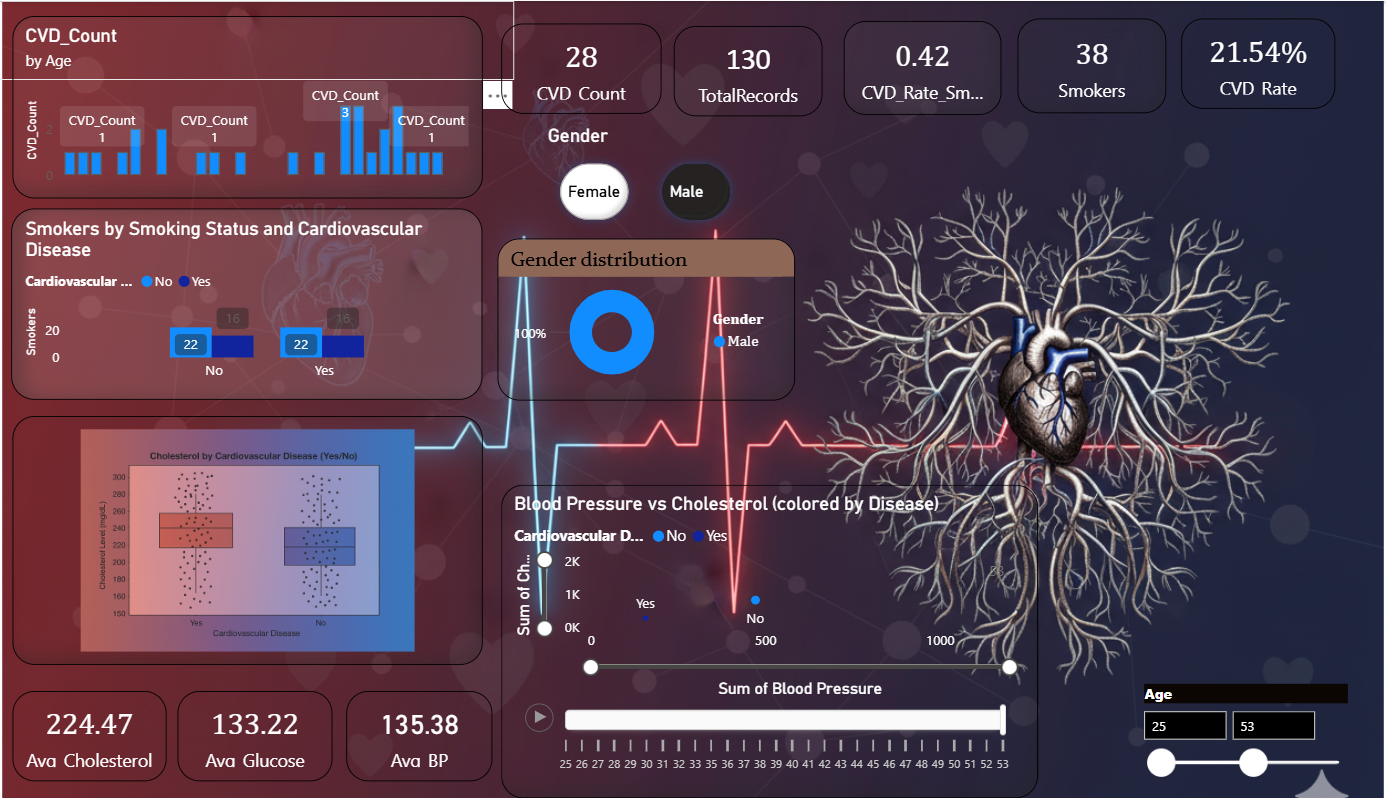

The dashboard page shown, as its layout file describes it:
{"tool":"powerbi","page":{"name":"Page 1","canvas":[1280,720],"ordinal":0},"visuals":[{"type":"textbox","box":[9.6,0,467.9,71.4],"z":0},{"type":"card","fields":{"Values":["Cardiovascular_Lifestyle_Dataset.TotalRecords"]},"box":[622.2,22.6,134.4,81.3],"z":1000},{"type":"card","fields":{"Values":["Cardiovascular_Lifestyle_Dataset.CVD_Count"]},"box":[466.3,20.3,144.5,81.3],"z":2000},{"type":"card","fields":{"Values":["Cardiovascular_Lifestyle_Dataset.CVD_Rate"]},"box":[1080.6,15.8,138.9,81.3],"z":3000},{"type":"card","fields":{"Values":["Cardiovascular_Lifestyle_Dataset.Avg_Cholesterol"]},"box":[24.8,623.3,138.9,81.3],"z":4000},{"type":"card","fields":{"Values":["Cardiovascular_Lifestyle_Dataset.Avg_BP"]},"box":[326.3,623.3,132.1,81.3],"z":5000},{"type":"card","fields":{"Values":["Cardiovascular_Lifestyle_Dataset.Avg_Glucose"]},"box":[173.9,623.3,140,81.3],"z":6000},{"type":"card","fields":{"Values":["Cardiovascular_Lifestyle_Dataset.Smokers"]},"box":[932.7,15.8,134.4,85.8],"z":7000},{"type":"card","fields":{"Values":["Cardiovascular_Lifestyle_Dataset.CVD_Rate_Smokers"]},"box":[775.7,18.1,142.3,84.7],"z":8000},{"type":"donutChart","title":"Gender distribution ","fields":{"Category":["Cardiovascular_Lifestyle_Dataset.Gender"],"Y":["Cardiovascular_Lifestyle_Dataset.CVD_Count"]},"box":[463,214.5,268.7,146.8],"z":9000},{"type":"clusteredColumnChart","fields":{"Category":["Cardiovascular_Lifestyle_Dataset.Age"],"Y":["Cardiovascular_Lifestyle_Dataset.CVD_Count"]},"box":[24.8,13.5,424.6,164.9],"z":10000},{"type":"clusteredColumnChart","fields":{"Category":["Cardiovascular_Lifestyle_Dataset.Smoking Status"],"Y":["Cardiovascular_Lifestyle_Dataset.Smokers"],"Series":["Cardiovascular_Lifestyle_Dataset.Cardiovascular Disease"]},"box":[23.7,187.4,425.7,172.8],"z":11000},{"type":"image","box":[24.8,374.9,424.6,224.7],"z":12000},{"type":"scatterChart","title":"Blood Pressure vs Cholesterol (colored by Disease)","fields":{"X":["Sum(Cardiovascular_Lifestyle_Dataset.Blood Pressure)"],"Y":["Sum(Cardiovascular_Lifestyle_Dataset.Cholesterol)"],"Series":["Cardiovascular_Lifestyle_Dataset.Cardiovascular Disease"],"Size":["Sum(Cardiovascular_Lifestyle_Dataset.Age)"],"Play":["Cardiovascular_Lifestyle_Dataset.Age"]},"box":[466.3,437,484.4,283.4],"z":13000},{"type":"slicer","fields":{"Values":["Cardiovascular_Lifestyle_Dataset.Age"]},"box":[1034,612,210,92],"z":14000},{"type":"advancedSlicerVisual","fields":{"Values":["Cardiovascular_Lifestyle_Dataset.Gender"]},"box":[503.6,111.8,186.3,102.8],"z":14001}]}

Visuals, with their boxes in screenshot pixels (x1, y1, x2, y2), scaled from the page's 1280x720 canvas onto the 1386x798 screenshot:
textbox: bbox=[10, 0, 517, 79]
card - Cardiovascular_Lifestyle_Dataset.TotalRecords: bbox=[674, 25, 819, 115]
card - Cardiovascular_Lifestyle_Dataset.CVD_Count: bbox=[505, 22, 661, 113]
card - Cardiovascular_Lifestyle_Dataset.CVD_Rate: bbox=[1170, 18, 1320, 108]
card - Cardiovascular_Lifestyle_Dataset.Avg_Cholesterol: bbox=[27, 691, 177, 781]
card - Cardiovascular_Lifestyle_Dataset.Avg_BP: bbox=[353, 691, 496, 781]
card - Cardiovascular_Lifestyle_Dataset.Avg_Glucose: bbox=[188, 691, 340, 781]
card - Cardiovascular_Lifestyle_Dataset.Smokers: bbox=[1010, 18, 1155, 113]
card - Cardiovascular_Lifestyle_Dataset.CVD_Rate_Smokers: bbox=[840, 20, 994, 114]
"Gender distribution " donutChart: bbox=[501, 238, 792, 400]
clusteredColumnChart - Cardiovascular_Lifestyle_Dataset.Age x Cardiovascular_Lifestyle_Dataset.CVD_Count: bbox=[27, 15, 487, 198]
clusteredColumnChart - Cardiovascular_Lifestyle_Dataset.Smoking Status x Cardiovascular_Lifestyle_Dataset.Smokers: bbox=[26, 208, 487, 399]
image: bbox=[27, 416, 487, 665]
"Blood Pressure vs Cholesterol (colored by Disease)" scatterChart: bbox=[505, 484, 1029, 797]
slicer - Cardiovascular_Lifestyle_Dataset.Age: bbox=[1120, 678, 1347, 780]
advancedSlicerVisual - Cardiovascular_Lifestyle_Dataset.Gender: bbox=[545, 124, 747, 238]
